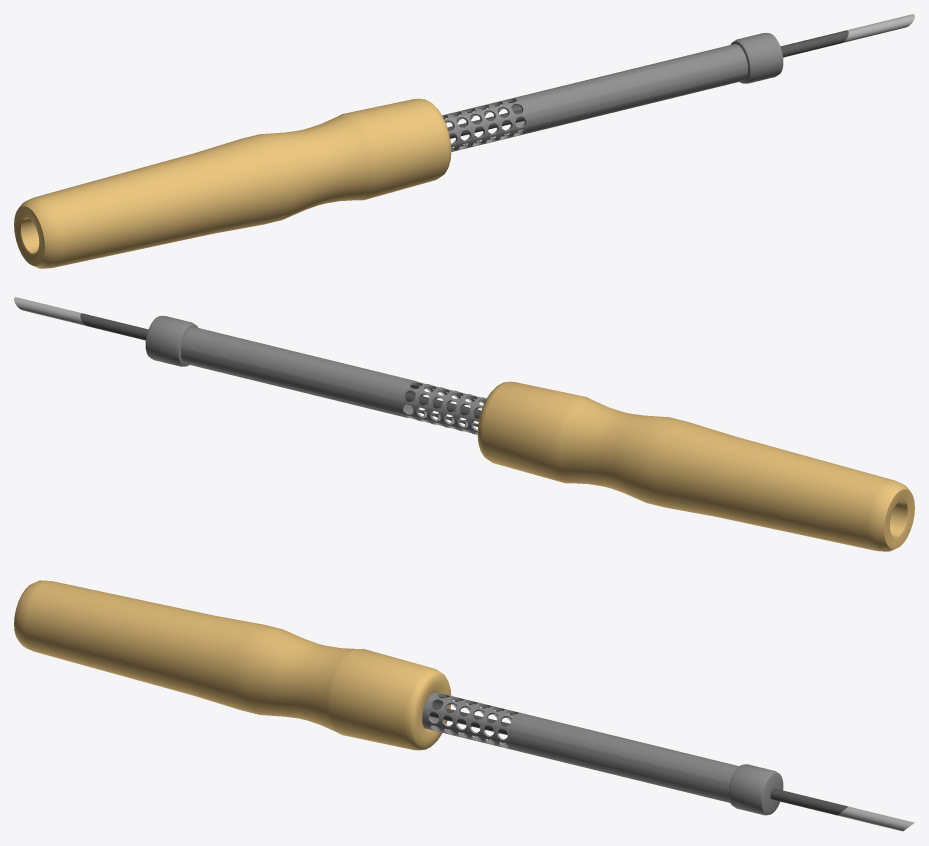
File: soldering_iron.fbx
3 renders of one model, top to bottom at view 1: azimuth 30°, elevation 25°; view 2: azimuth 150°, elevation 25°; view 3: azimuth 330°, elevation 25°, orthographic.
Parts seen in each view (by area): view 1: soldering-iron; view 2: soldering-iron; view 3: soldering-iron.
Boxes of the visible parts, <box> form: soldering-iron: <box>14,14,914,268</box>; soldering-iron: <box>14,297,914,551</box>; soldering-iron: <box>14,580,914,831</box>.
Size of the model in its own units: 28.68 by 2.5 by 2.5.
